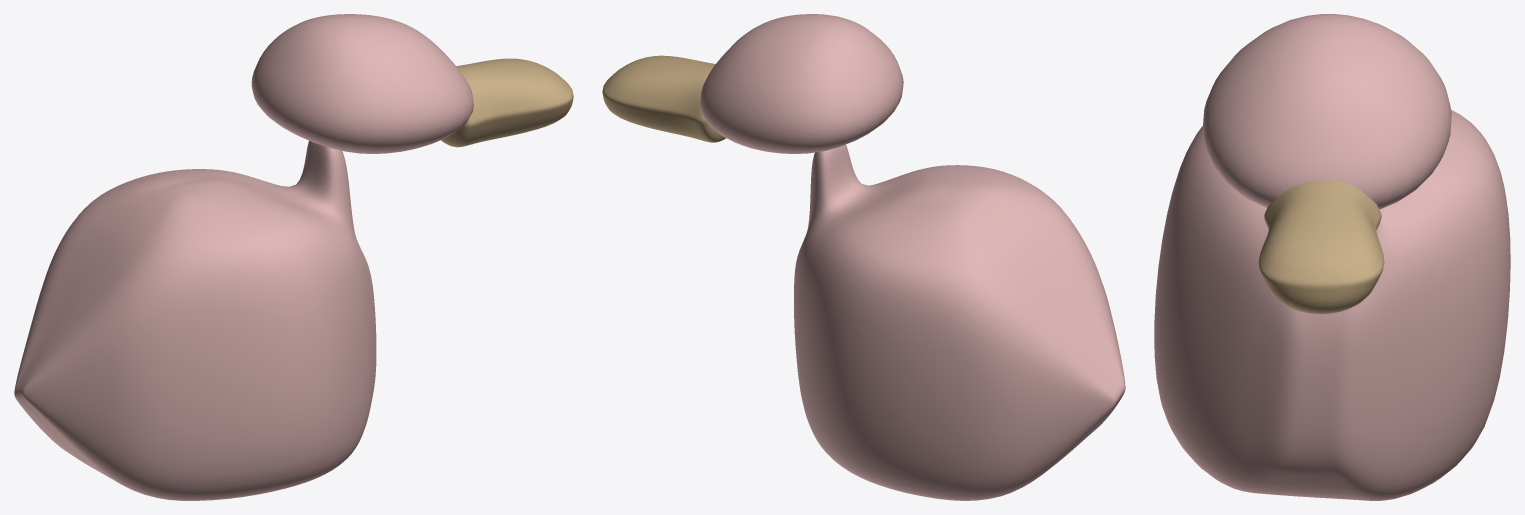
Rendered from babyPinkDuck_NonAnimated.fbx.
The picture shows the model from 3 angles, left to right: view 1: azimuth 30°, elevation 25°; view 2: azimuth 150°, elevation 25°; view 3: azimuth 270°, elevation 25°; orthographic projection. The views are drawn at different scales.
Parts seen in each view (by area): view 1: polySurface9; view 2: polySurface9; view 3: polySurface9.
Part boxes in pixels (x1,y1,x2,y2): polySurface9: (14,14,573,500); polySurface9: (602,14,1125,500); polySurface9: (1154,14,1510,500).
Size of the model in its own units: 5.06 by 3.76 by 2.38.
